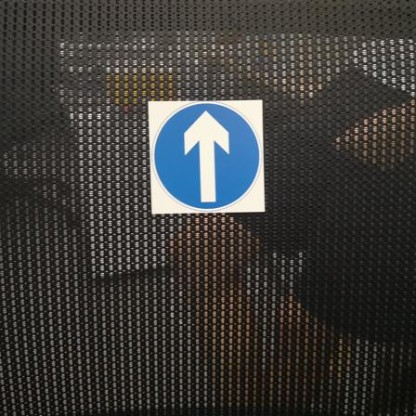forward: (144, 98, 270, 214)
